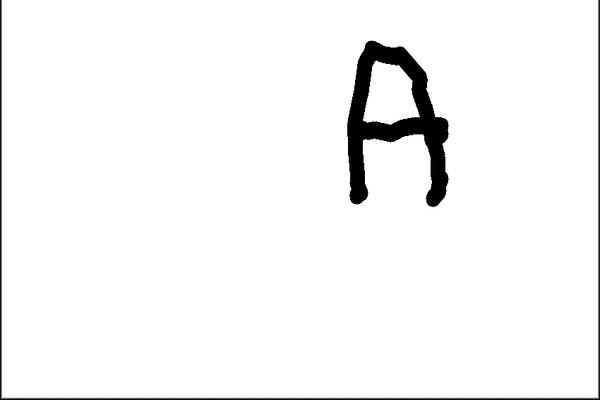A: (335, 33, 452, 209)
